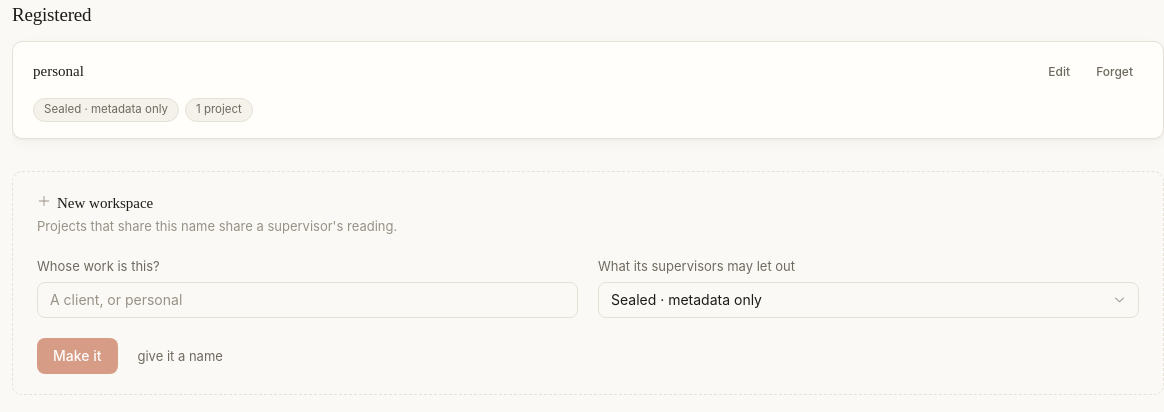
editing a workspace › goes back to being a blank form when you cancel
Click the button "Edit" at (1059, 72), box [1038, 58, 1080, 86]
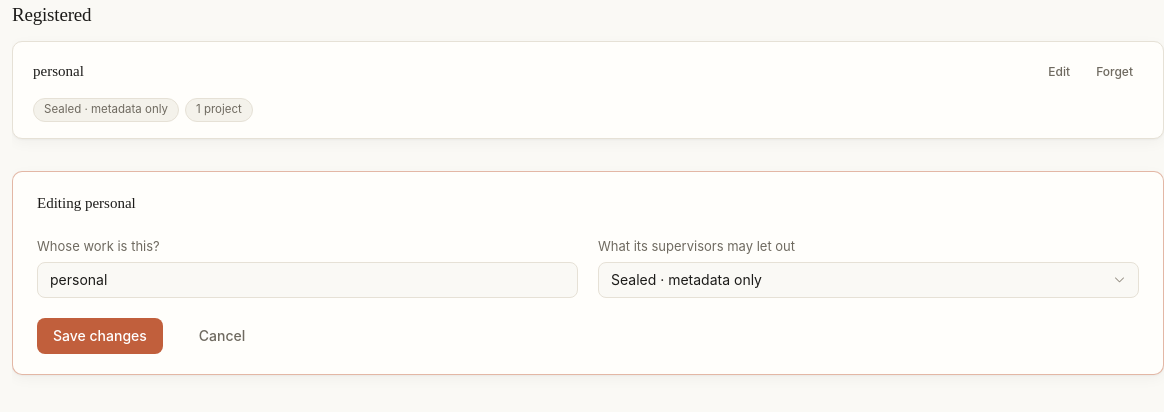
Click the button "Cancel" at (222, 336), box [183, 318, 261, 354]
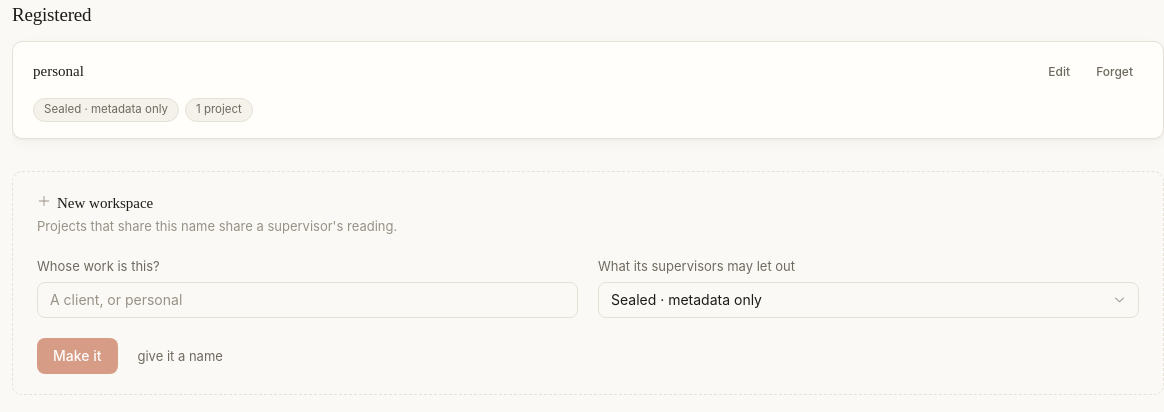
Expected: the field labelled "Whose work is this?" is empty, [37, 282, 578, 318]
Expected: the heading "New workspace" is shown, [57, 192, 153, 216]
